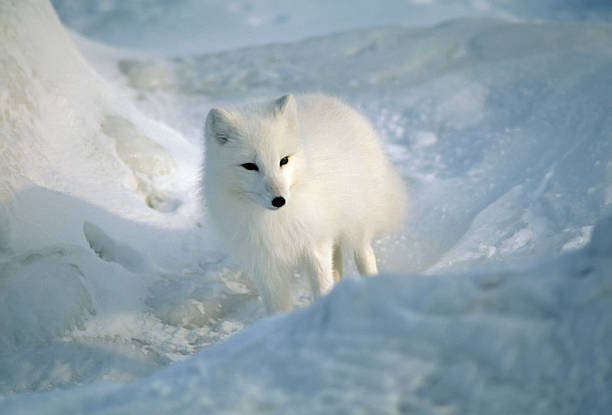arcticfox: (226, 119, 326, 222)
